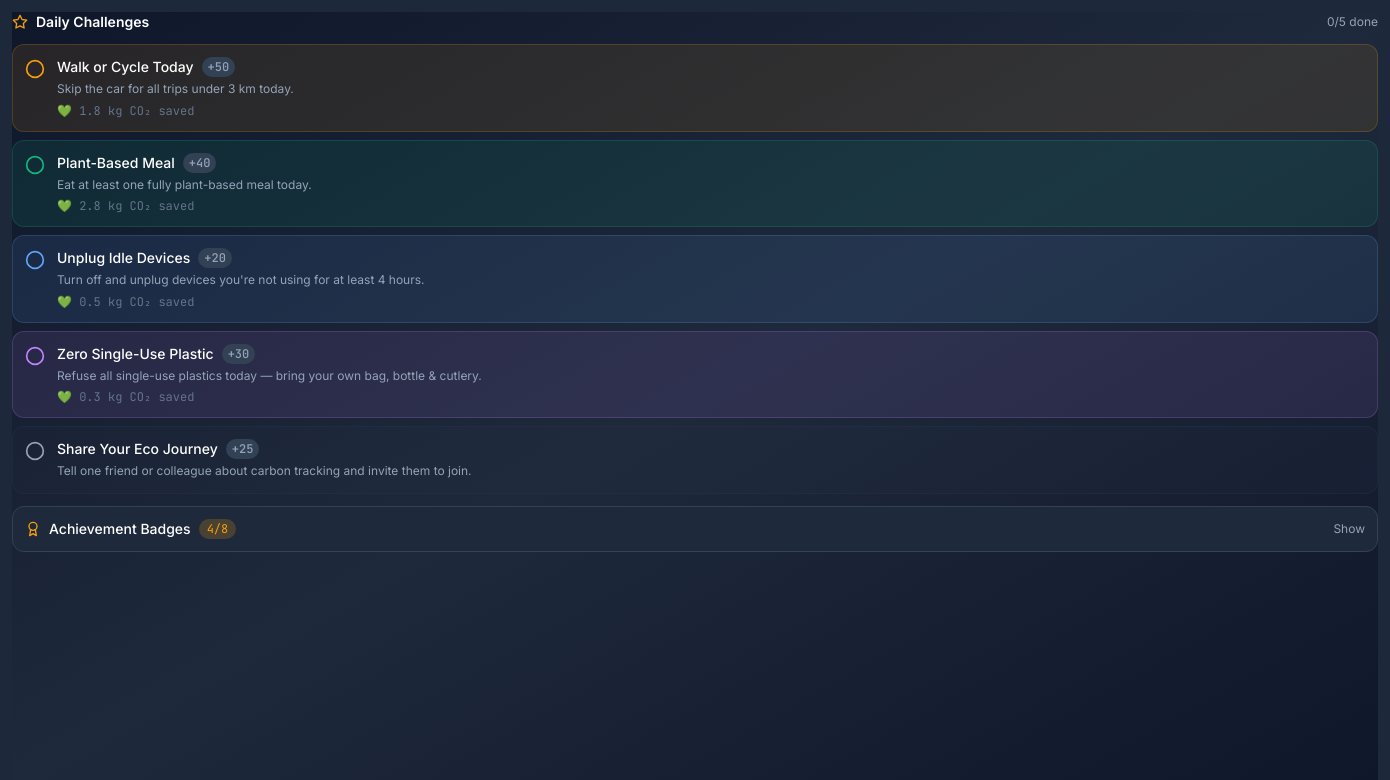
Scenario: DailyChallenges › toggles challenge completion and updates points
Click the button named "Mark \"Walk or Cycle Today\" as complete. 50 points. Skip the" at x=125, y=66, box [12,44,1378,132]
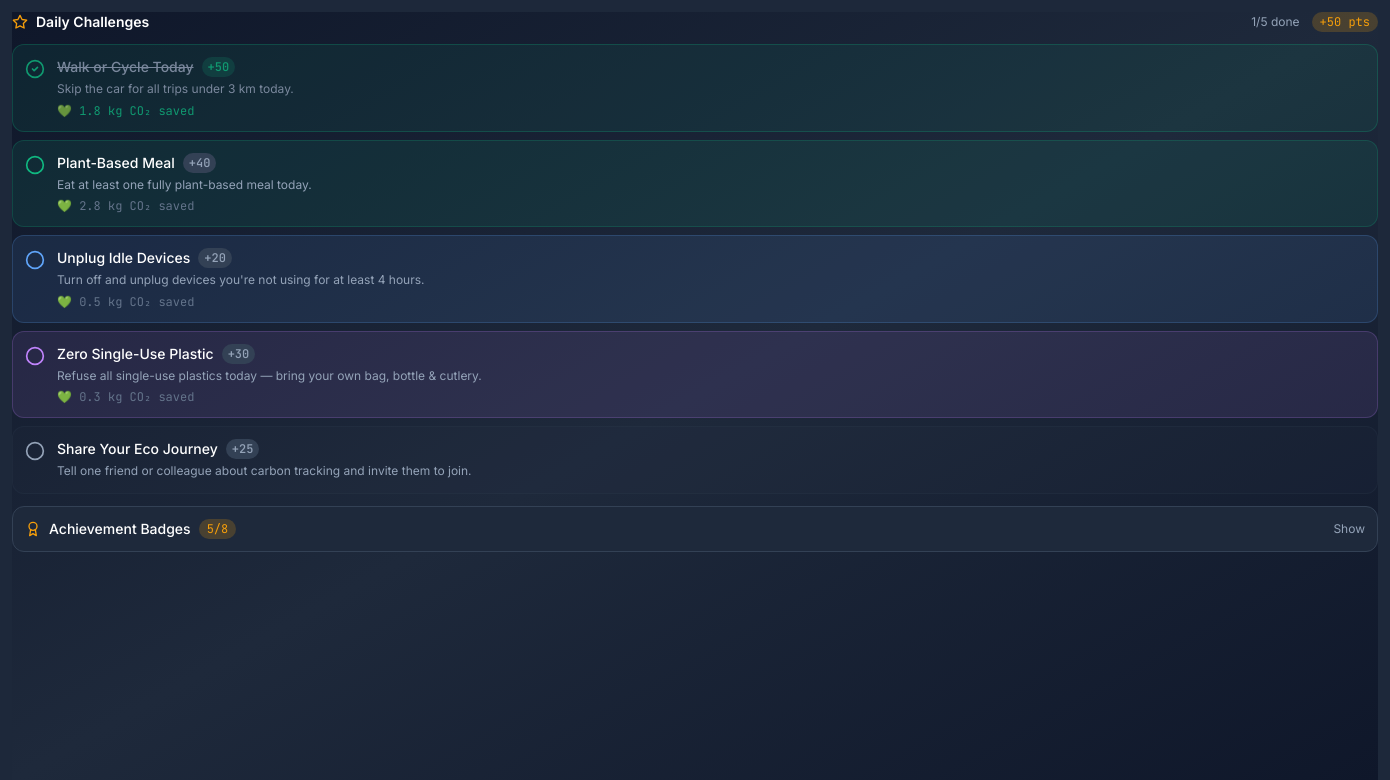
Now the text "+50 pts" is shown, box [1312,12,1378,32]
